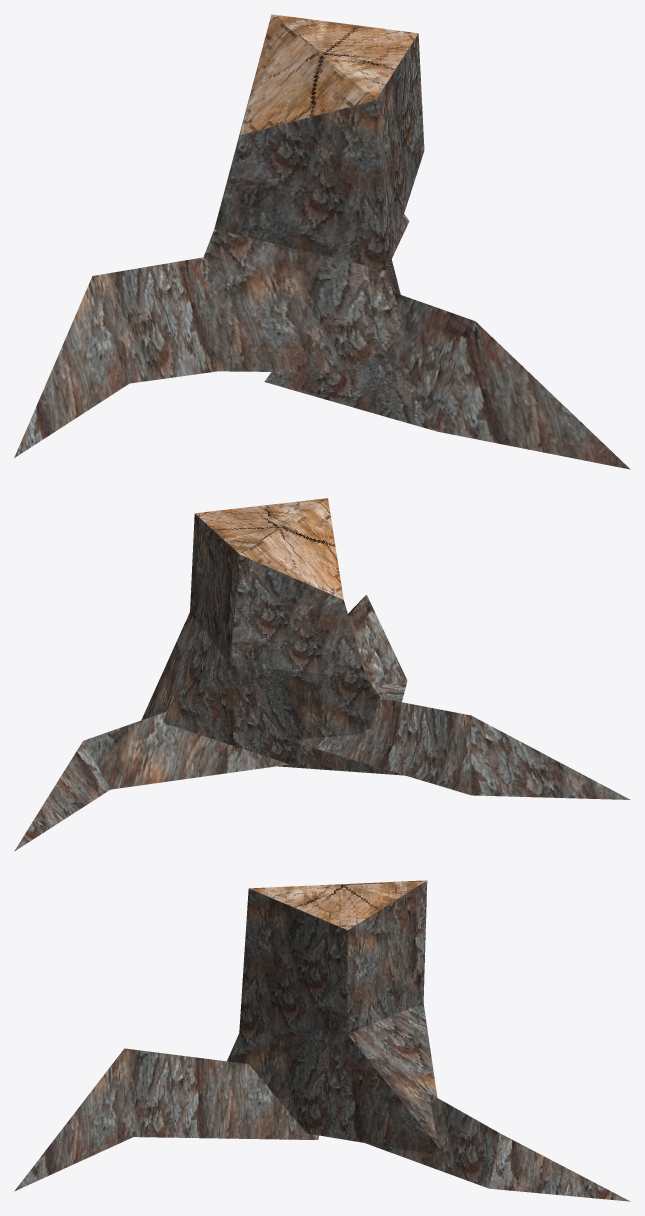
File: Troncofbx.fbx
3 renders of one model, top to bottom at view 1: azimuth 30°, elevation 25°; view 2: azimuth 150°, elevation 25°; view 3: azimuth 270°, elevation 25°, orthographic. The views are drawn at different scales.
Visible parts, largest first — view 1: PSX_Treetrunk; view 2: PSX_Treetrunk; view 3: PSX_Treetrunk.
Part boxes in pixels (x1,y1,x2,y2): PSX_Treetrunk: (14, 14, 630, 469); PSX_Treetrunk: (14, 498, 630, 851); PSX_Treetrunk: (14, 880, 630, 1201).
Bounding box in the file's own units: 235 × 128 × 274.
2 materials, 2 textured.
